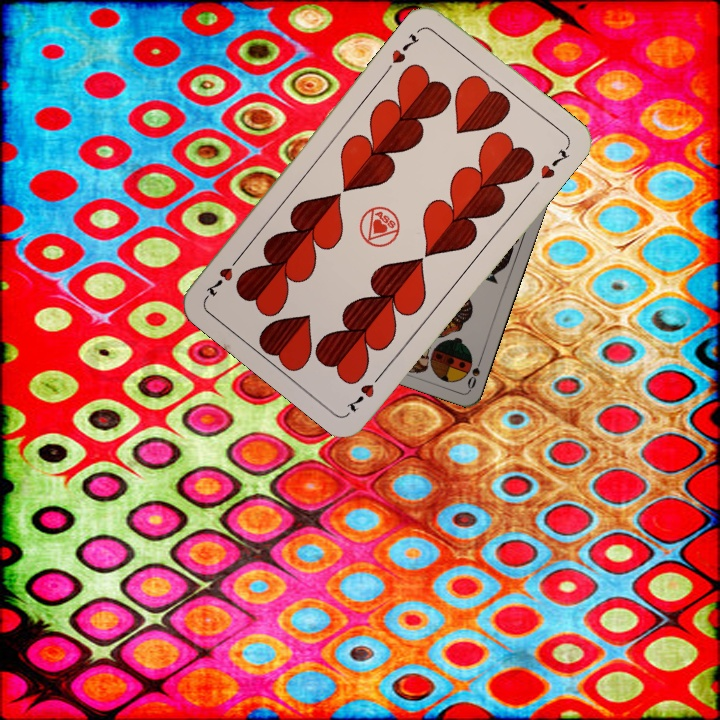H7: (342, 367, 387, 414), (382, 29, 422, 75)
SO: (463, 352, 485, 392)
